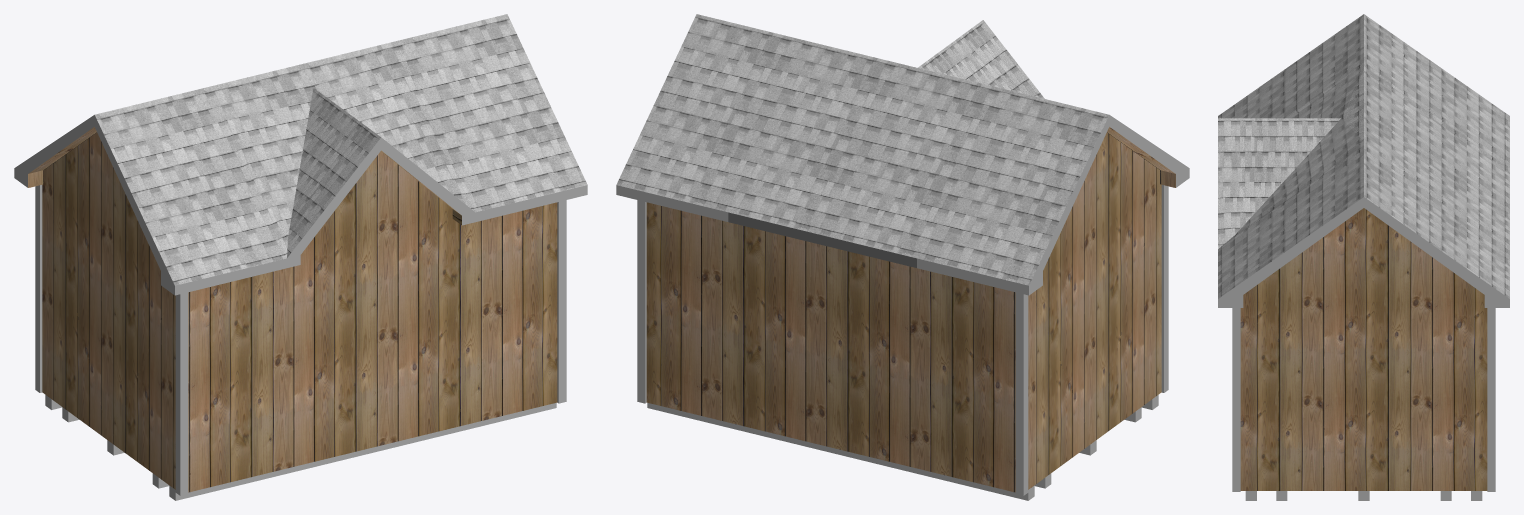
The model's file is Victorian Shed_8x12.obj.
3 views of the same model, side by side, from view 1: azimuth 30°, elevation 25°; view 2: azimuth 150°, elevation 25°; view 3: azimuth 270°, elevation 25° (orthographic). The views are drawn at different scales.
Visible parts, largest first — view 1: Shed, Roof, Sides, Trim, Floor; view 2: Shed, Roof, Sides, Trim, Floor; view 3: Shed, Roof, Sides, Trim, Floor.
Boxes of the visible parts, <box> form: Shed: <box>28,127,557,492</box>; Roof: <box>95,14,587,285</box>; Sides: <box>14,115,587,295</box>; Trim: <box>35,185,566,495</box>; Floor: <box>45,395,556,500</box>; Shed: <box>646,127,1175,492</box>; Roof: <box>616,14,1108,285</box>; Sides: <box>616,115,1189,295</box>; Trim: <box>637,185,1168,495</box>; Floor: <box>647,395,1158,500</box>; Shed: <box>1240,208,1487,490</box>; Roof: <box>1218,14,1509,298</box>; Sides: <box>1218,197,1509,307</box>; Trim: <box>1232,308,1495,491</box>; Floor: <box>1245,491,1482,500</box>.
Bounding box in the file's own units: 3.96 × 3.14 × 2.67.
